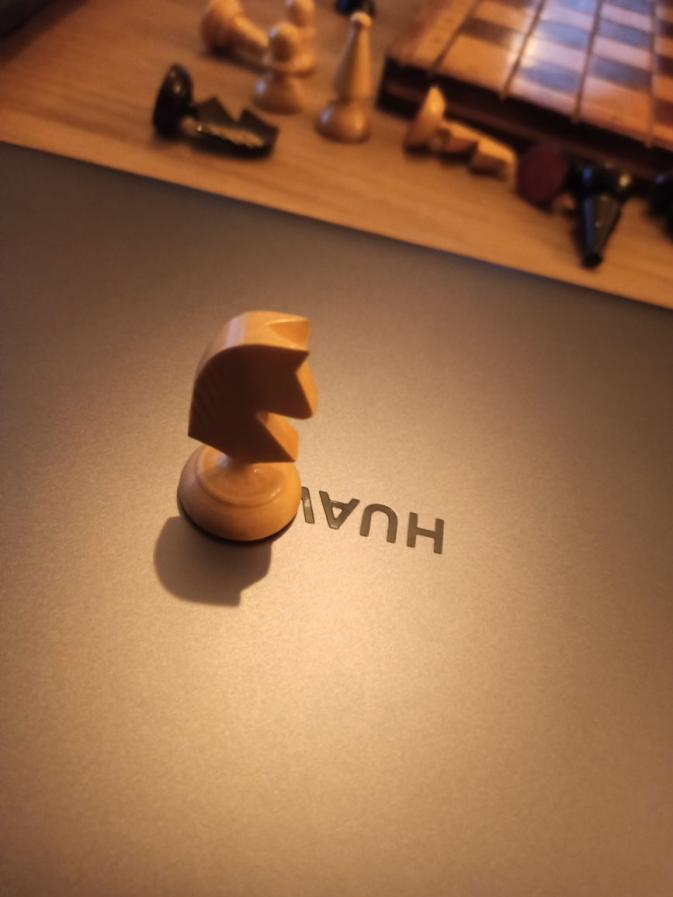wknight: (170, 305, 322, 547)
